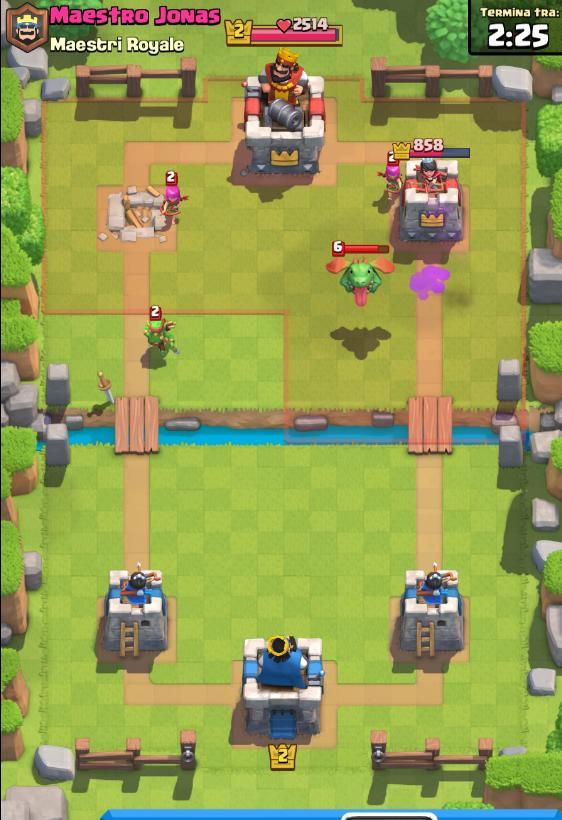enemy_archer: (378, 151, 405, 213), (161, 172, 188, 220)
enemy_baby_dragon: (323, 240, 394, 306)
enemy_spear_goblin: (145, 307, 180, 357)
